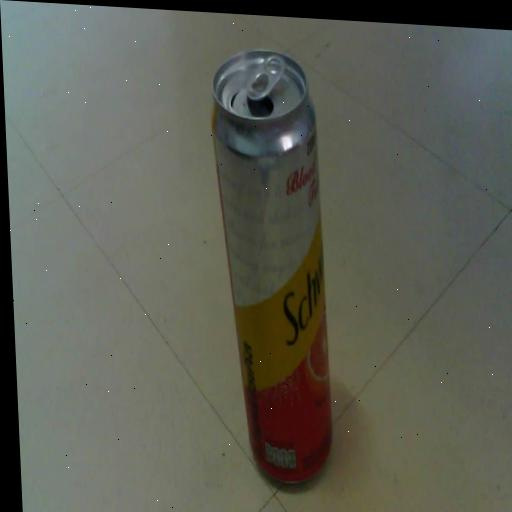canned: (196, 20, 353, 504)
